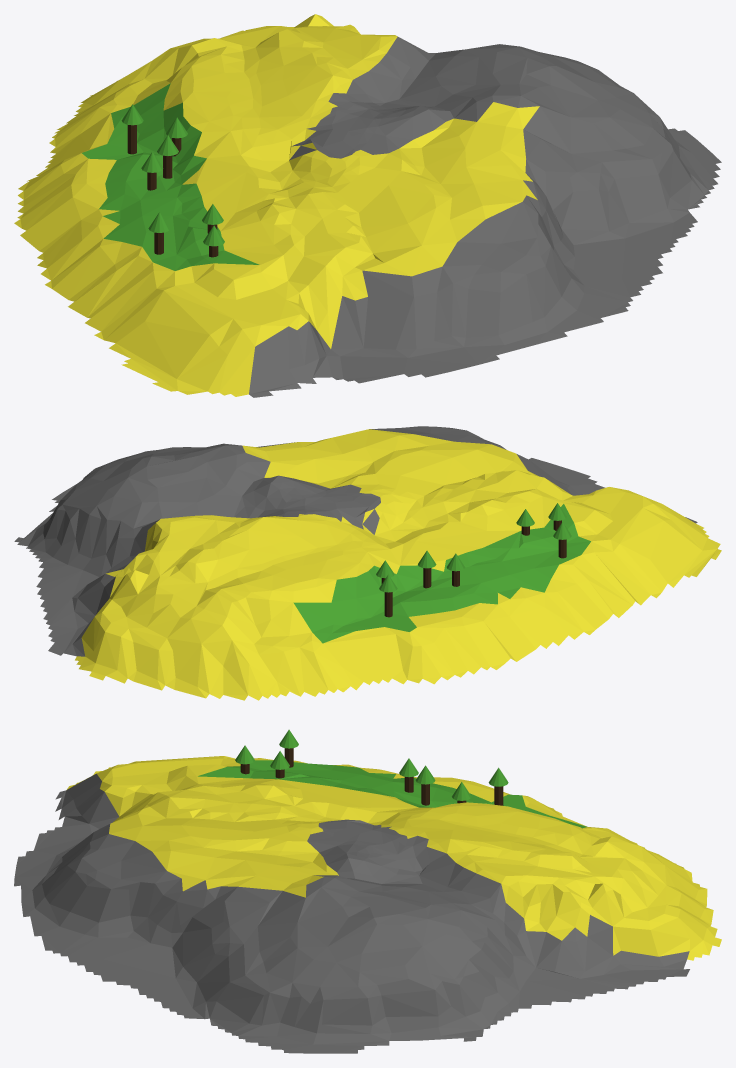
Rendered from Island4.glb.
3 renders of one model, top to bottom at view 1: azimuth 30°, elevation 25°; view 2: azimuth 150°, elevation 25°; view 3: azimuth 270°, elevation 25°, orthographic. The views are drawn at different scales.
Visible parts, largest first — view 1: Desert; view 2: Desert; view 3: Desert.
Boxes of the visible parts, box(x1,y1,x2,y2) form: Desert: box(14, 14, 721, 397); Desert: box(14, 426, 721, 700); Desert: box(14, 729, 721, 1053).
Size of the model in its own units: 6.21 by 0.8666 by 6.37.
